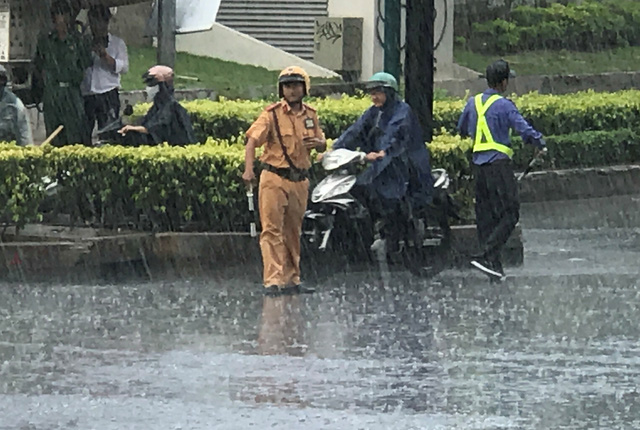police: (239, 70, 337, 300)
